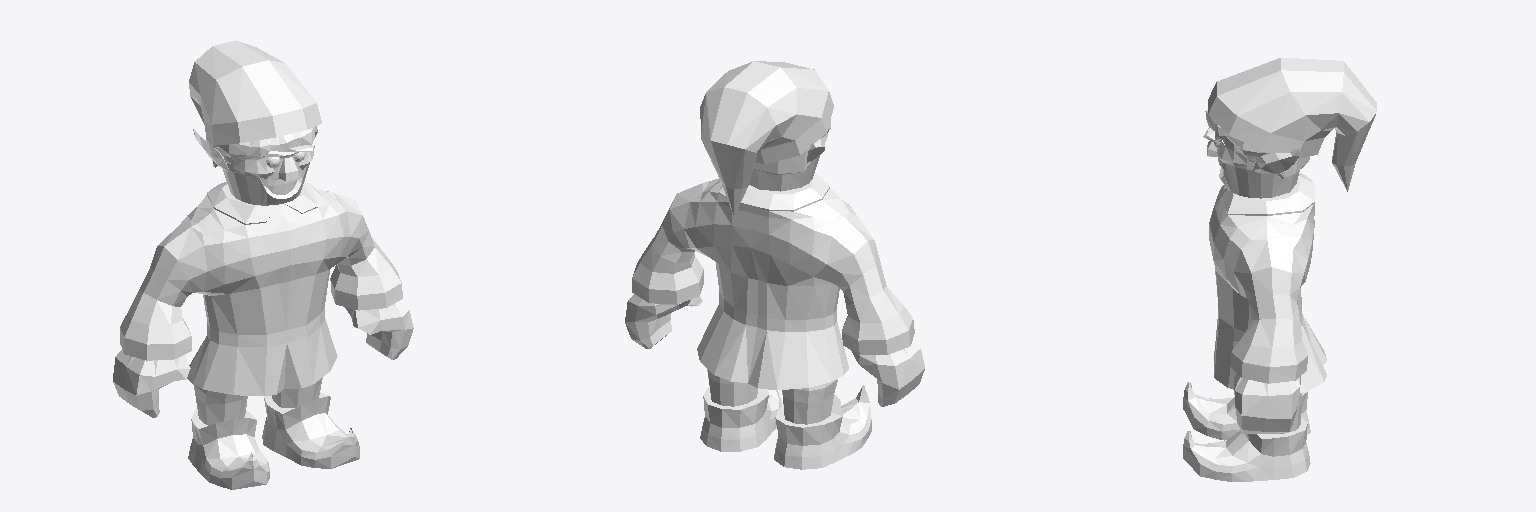
The model's file is AnnoyingElfKeith.obj.
The picture shows the model from 3 angles: view 1: azimuth 30°, elevation 25°; view 2: azimuth 150°, elevation 25°; view 3: azimuth 270°, elevation 25°; orthographic projection.
Visible parts, largest first — view 1: Handle1; view 2: Handle1; view 3: Handle1.
Boxes of the visible parts, box(x1,y1,x2,y2) form: Handle1: box(113, 40, 413, 489); Handle1: box(625, 61, 924, 469); Handle1: box(1183, 57, 1376, 481).
Bounding box in the file's own units: 1.81 × 2.4 × 1.1.